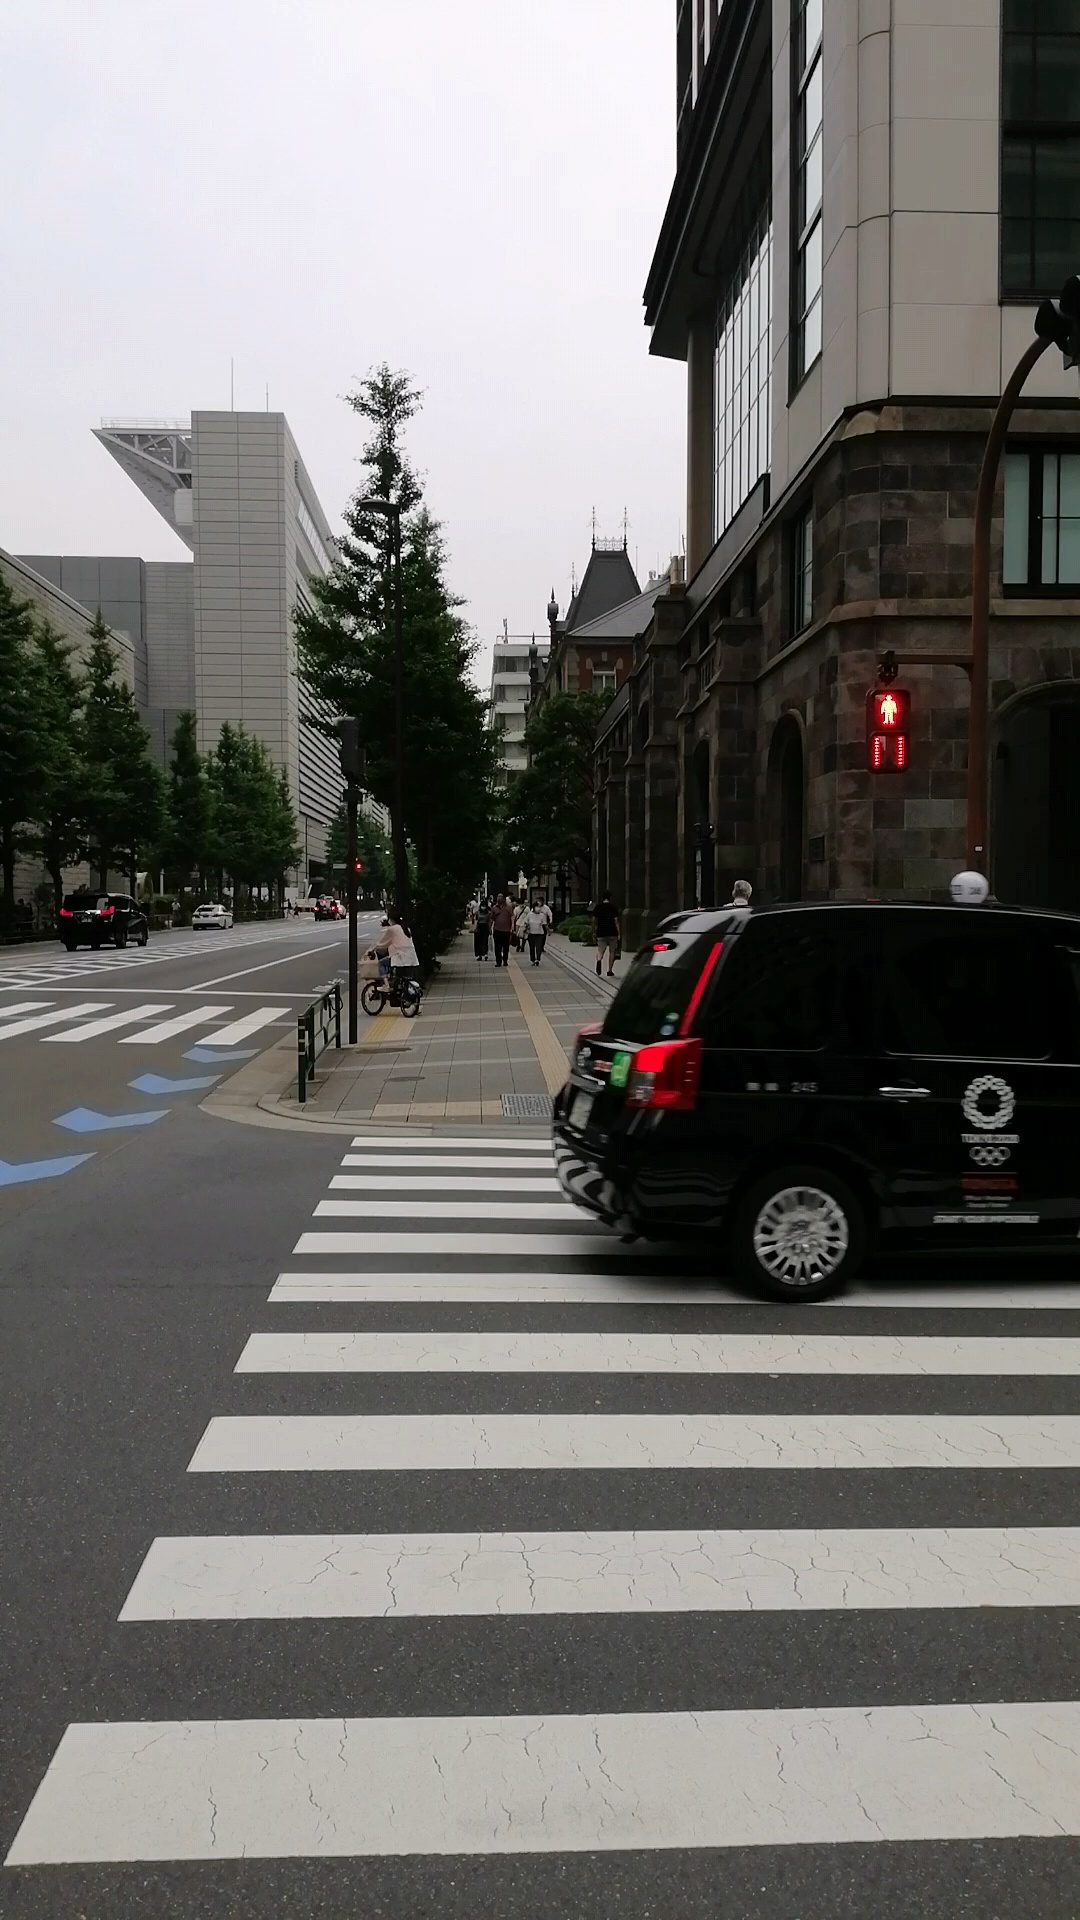red: (864, 687, 913, 774)
